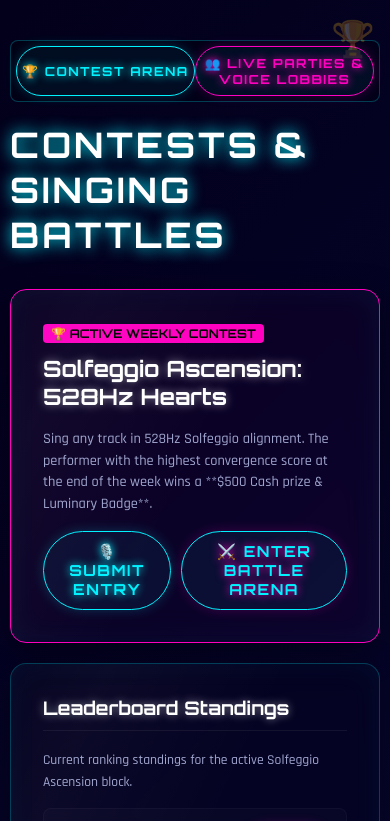
Test: Ariyus-One Vocal Chat Lobbies & Spatial Rooms tests › Parties screen switches between Contest and live Lobbies view
Check: the heading "Solfeggio Ascension: 528Hz Hearts" is shown, box [43,354,347,410]
Click Live Parties & Voice Lobbies tab
Click the button "👥 Live Parties & Voice Lobbies" at (284, 71), box [195,46,374,96]
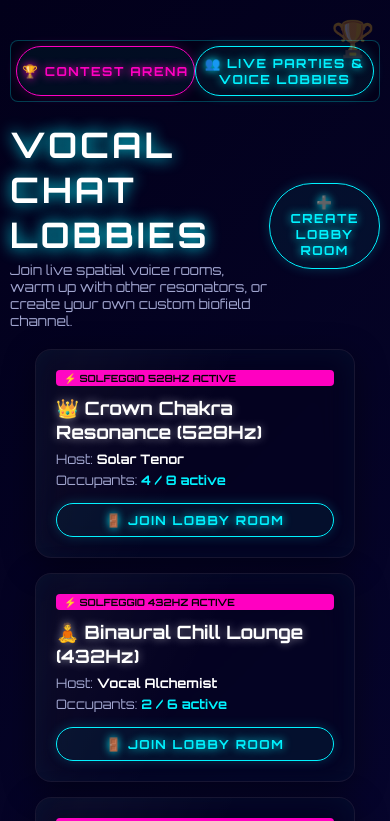
Check: the heading "Vocal Chat Lobbies" is shown, box [10,122,210,257]
Check: the heading "👑 Crown Chakra Resonance (528Hz)" is shown, box [56,396,262,443]
